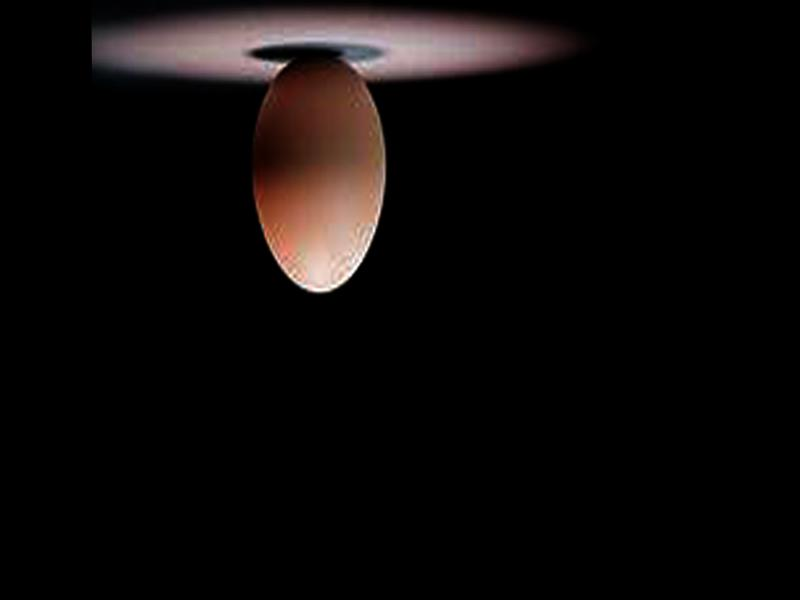Eggs: (246, 51, 387, 292)
